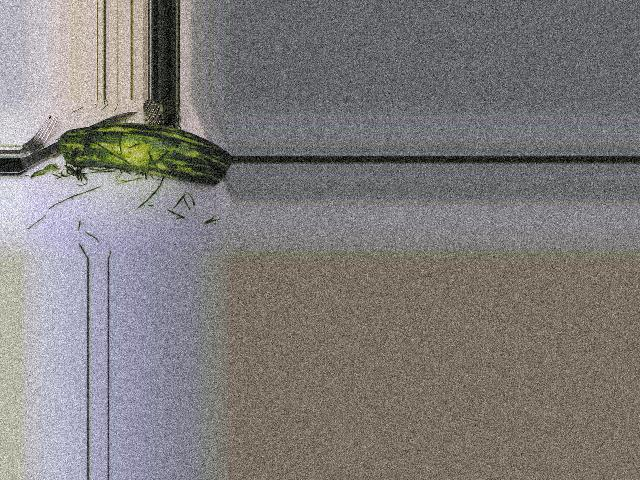cucumber: (59, 123, 230, 186)
